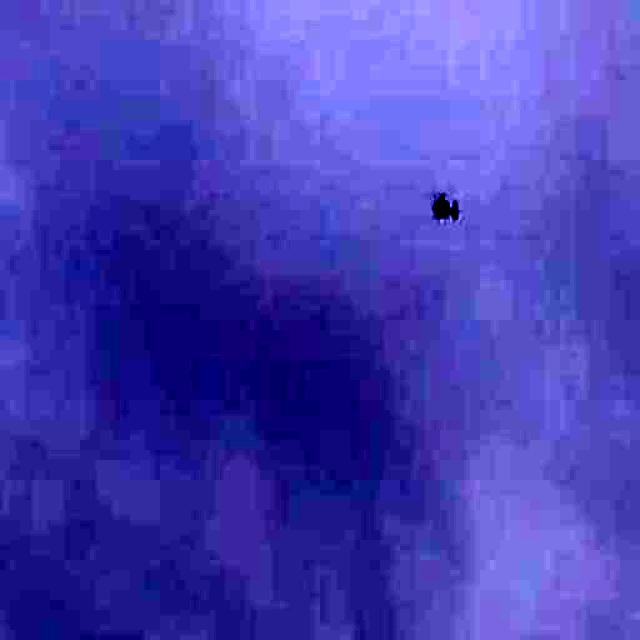drone: (402, 160, 486, 246)
